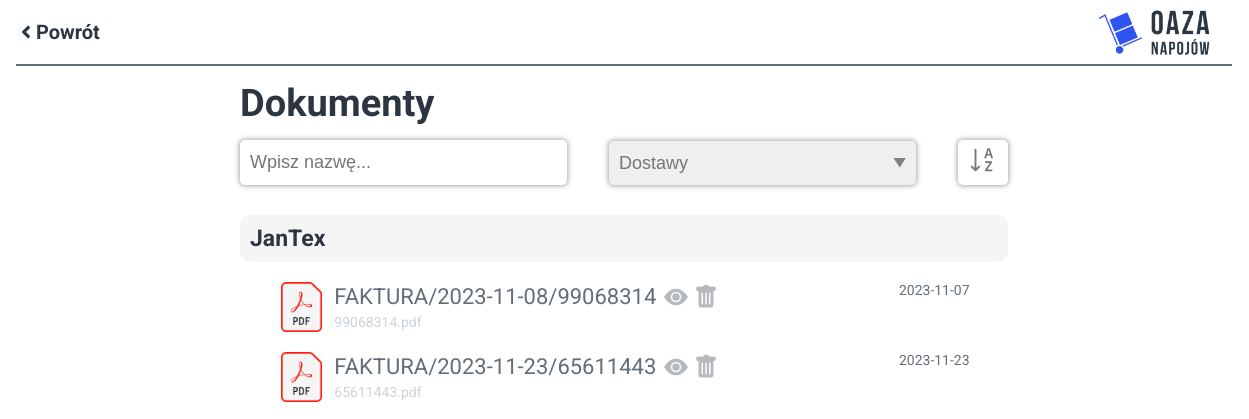
Documents › DeleteFilesProperly
What coordinates should you click on to do the following:
click the 1st button with test id "DeleteBtn"
I would click on:
 (706, 297)
Its box is 696,287 -> 716,307.
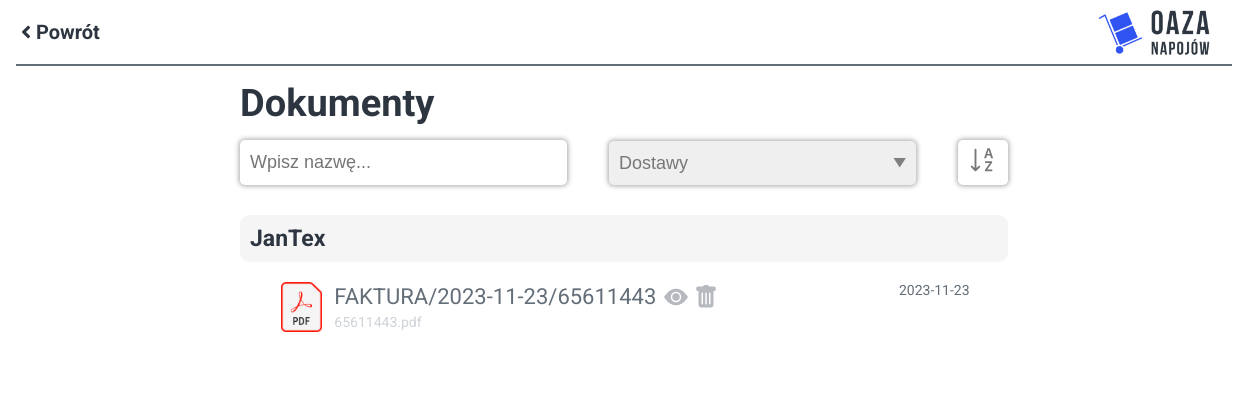
expect the text "FAKTURA/2023-11-08/99068314" is gone: met
expect the heading "99068314.pdf" is gone: met
